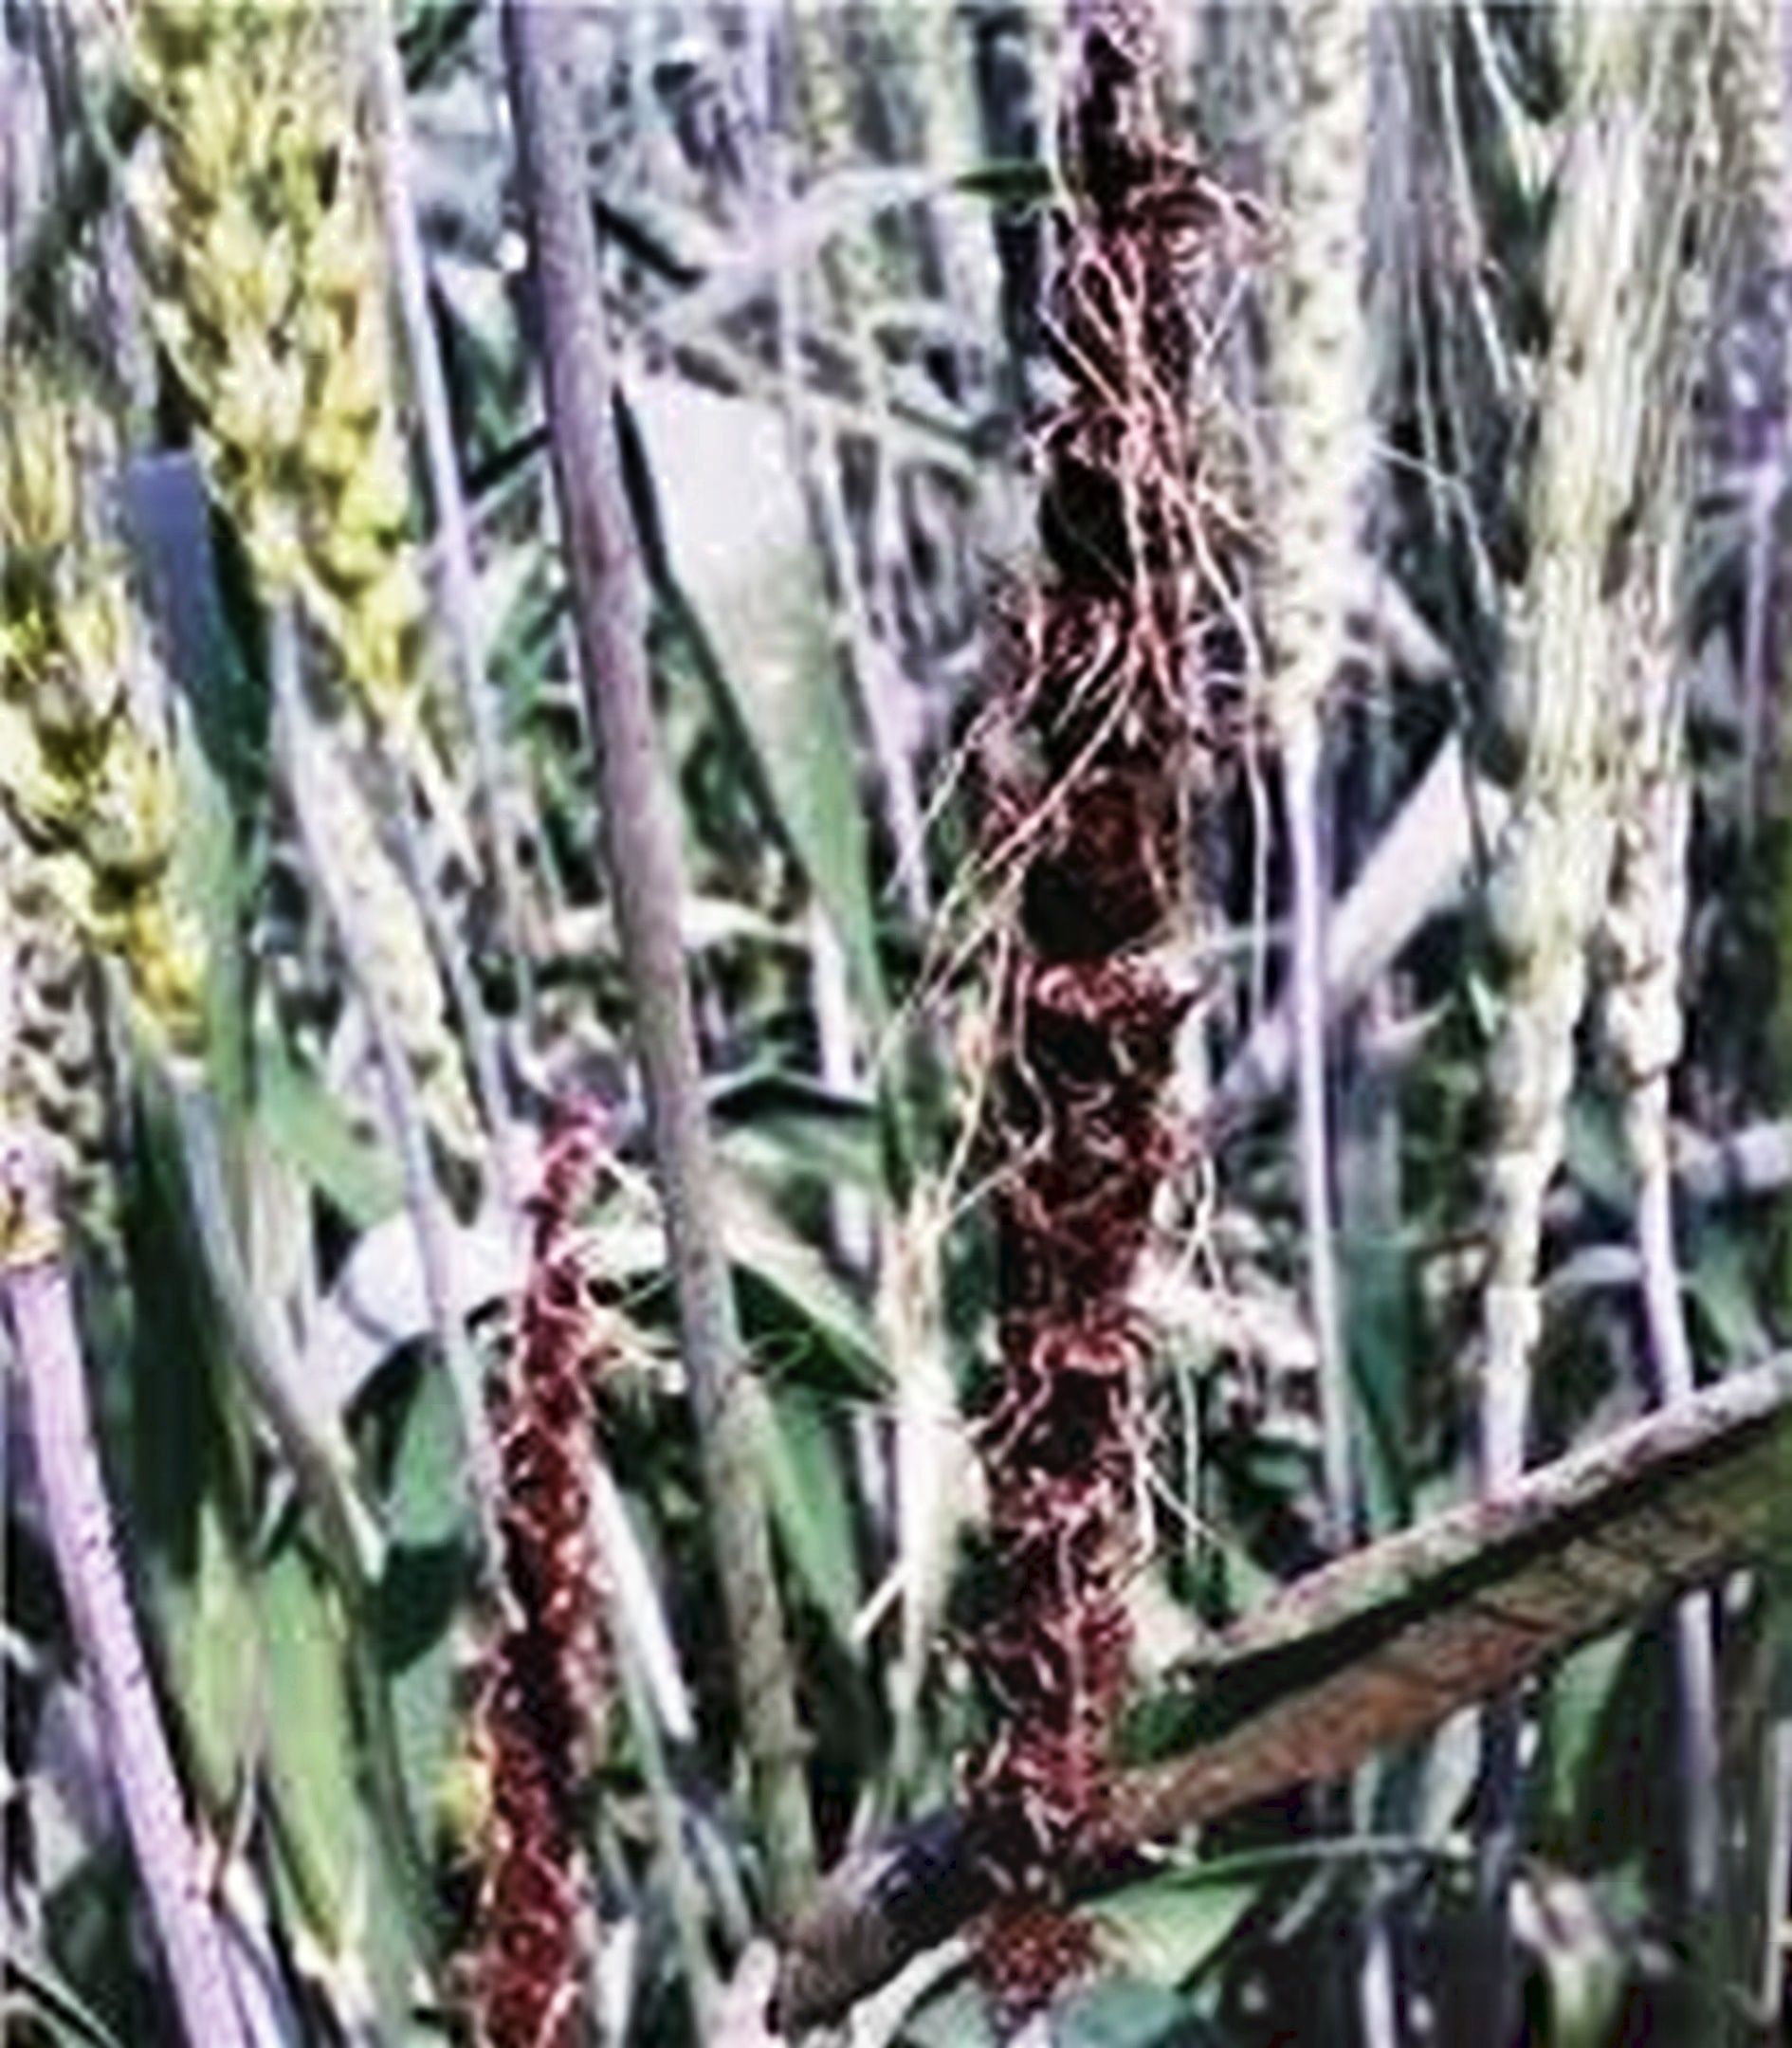Wheat Loose Smut: (921, 57, 1236, 1789)
